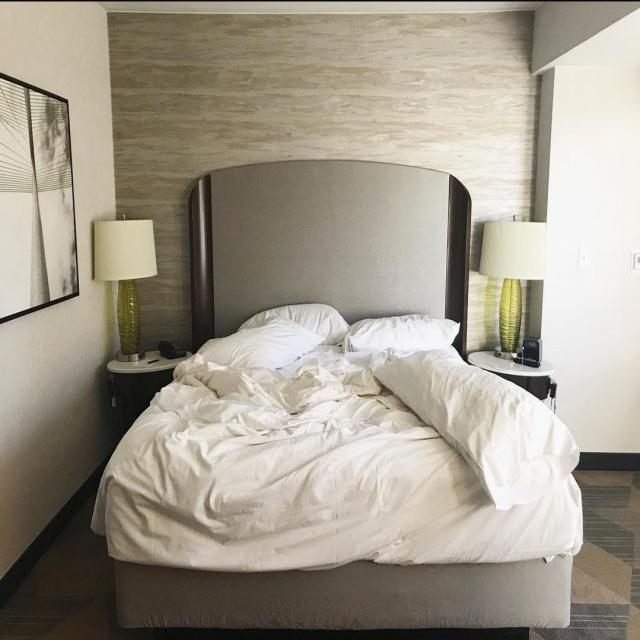bed: (92, 285, 586, 555)
